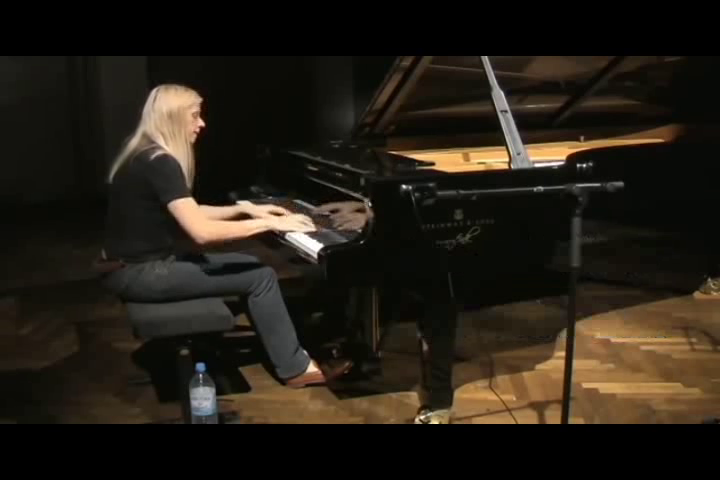keyboard: (228, 193, 360, 279)
